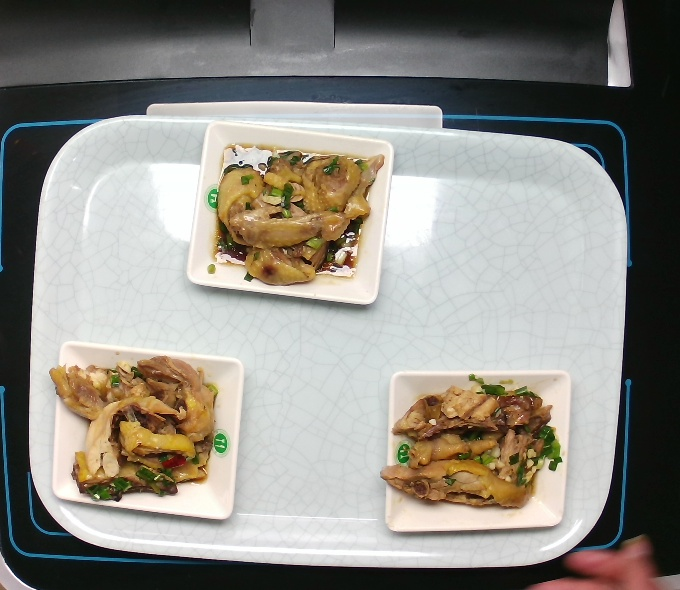wcq-CongYouJi: (47, 353, 217, 503), (212, 146, 387, 288), (378, 383, 557, 512)
